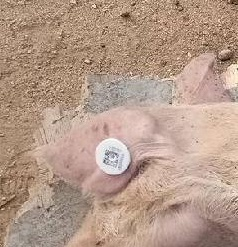text: (87, 132, 139, 186)
